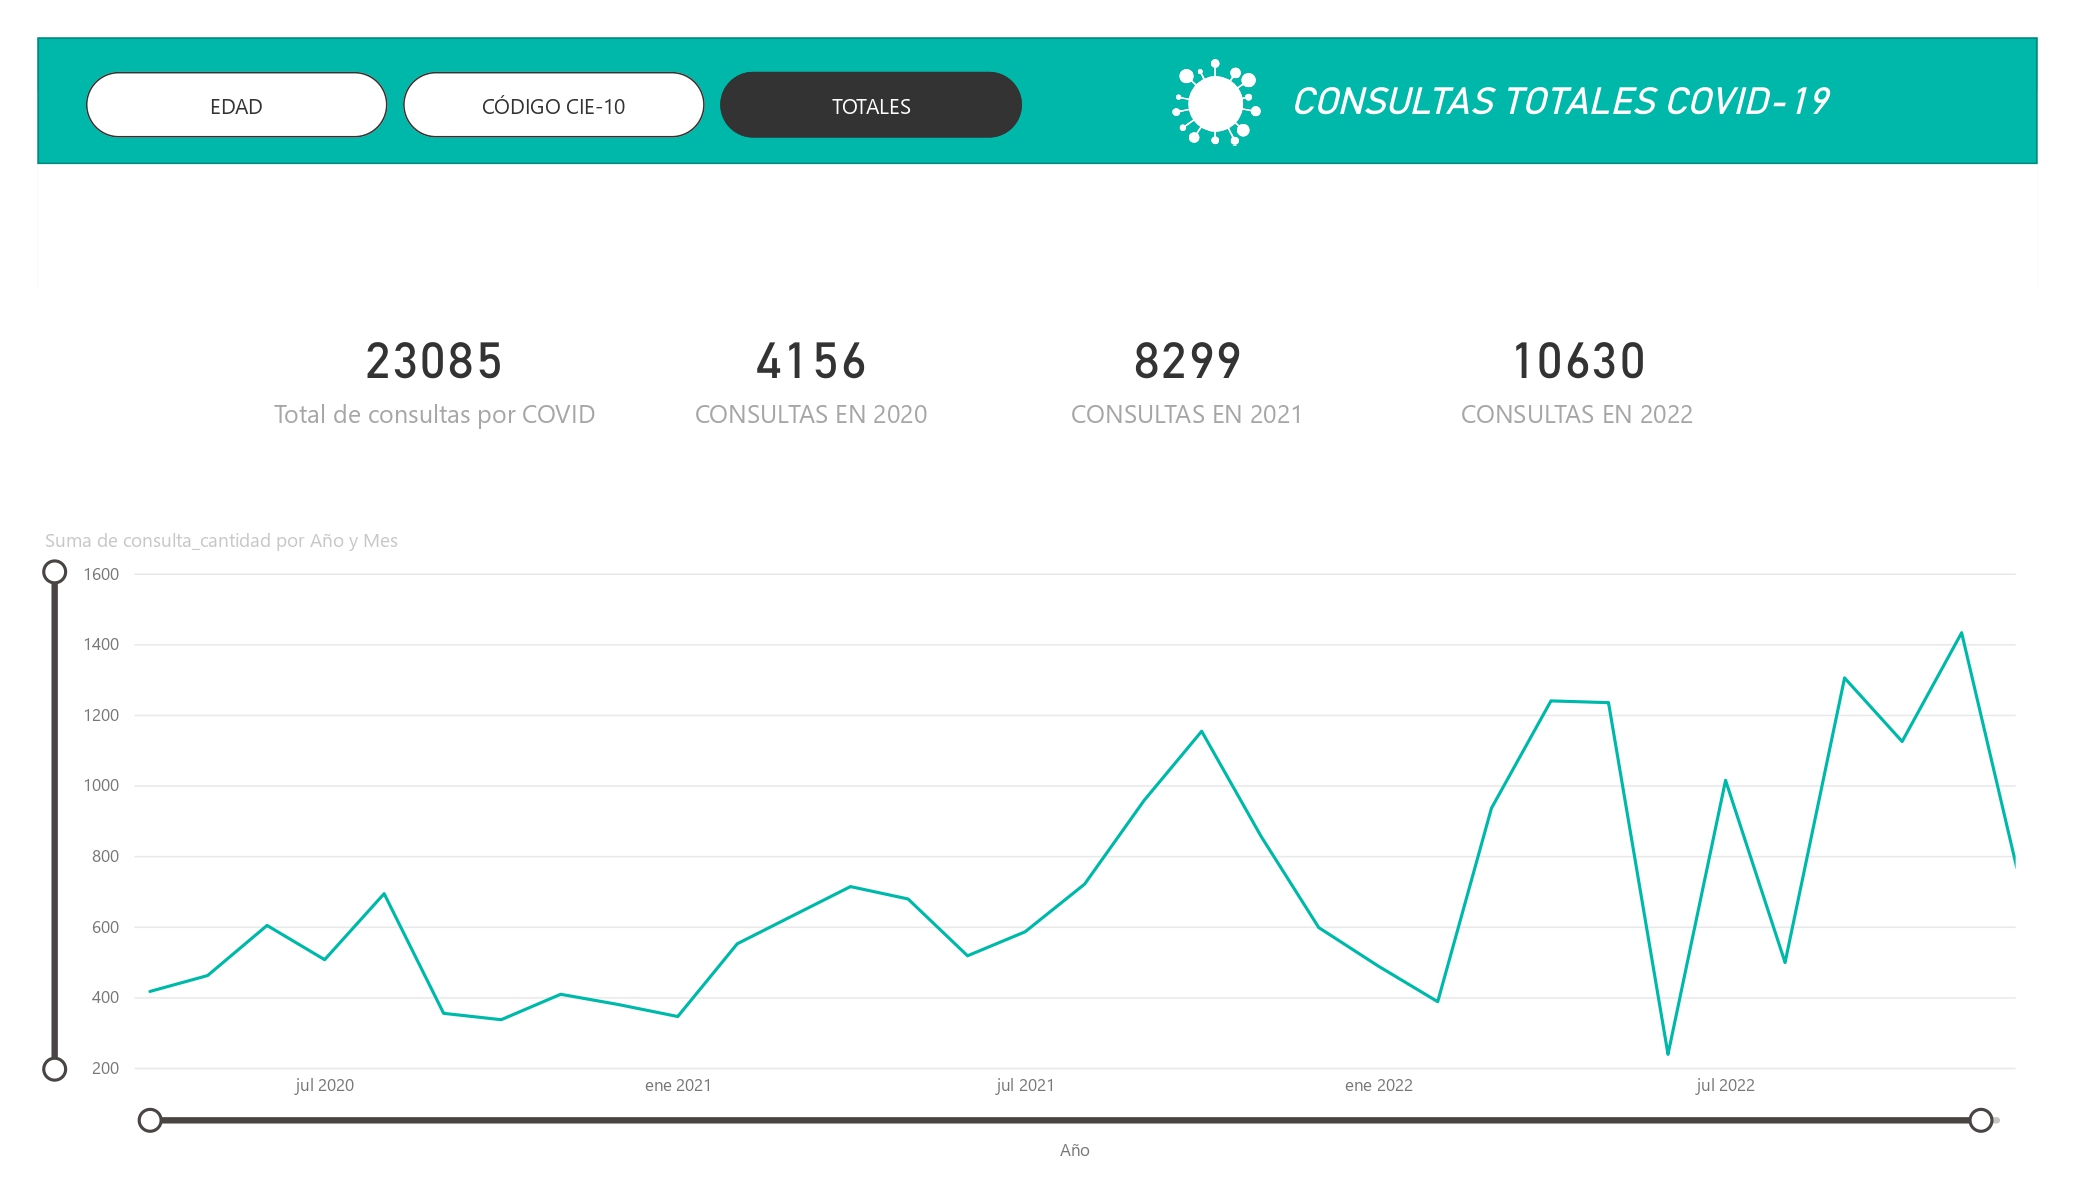

What the dashboard file says about the page in this screenshot:
{"tool":"powerbi","page":{"name":"TOTALES","canvas":[1280,720],"ordinal":2},"visuals":[{"type":"shape","box":[0,0,1280,80.9],"z":0},{"type":"textbox","box":[797.2,22,482.8,47.2],"z":1000},{"type":"pageNavigator","box":[30.8,21.8,599.6,42.4],"z":2000},{"type":"lineChart","fields":{"Category":["df.fecha.Variación.Jerarquía de fechas.Año","df.fecha.Variación.Jerarquía de fechas.Mes"],"Y":["Sum(df.consulta_cantidad)"]},"box":[0,313,1280,407],"z":3000},{"type":"card","fields":{"Values":["df.Total acumulado de consulta_cantidad en fecha"]},"box":[106.9,128.9,316.1,151],"z":4000},{"type":"image","box":[703.5,8.9,102.9,64.8],"z":5000},{"type":"card","fields":{"Values":["CountNonNull(df.fecha.Variación.Jerarquía de fechas.Año)"]},"box":[377.4,128.9,306.6,151],"z":6000},{"type":"card","fields":{"Values":["Min(df.fecha.Variación.Jerarquía de fechas.Mes)"]},"box":[674.6,128.9,248.5,151],"z":7000},{"type":"card","fields":{"Values":["CountNonNull(df.fecha.Variación.Jerarquía de fechas.Día)"]},"box":[923,128.9,232.7,151],"z":8000}]}

Visuals, with their boxes in screenshot pixels (x1, y1, x2, y2):
shape: <region>38, 38, 2038, 164</region>
textbox: <region>1283, 72, 2038, 146</region>
pageNavigator: <region>86, 72, 1022, 138</region>
lineChart - df.fecha.Variación.Jerarquía de fechas.Año x df.fecha.Variación.Jerarquía de fechas.Mes: <region>38, 527, 2038, 1162</region>
card - df.Total acumulado de consulta_cantidad en fecha: <region>205, 239, 698, 475</region>
image: <region>1137, 51, 1298, 153</region>
card - CountNonNull(df.fecha.Variación.Jerarquía de fechas.Año): <region>627, 239, 1106, 475</region>
card - Min(df.fecha.Variación.Jerarquía de fechas.Mes): <region>1092, 239, 1480, 475</region>
card - CountNonNull(df.fecha.Variación.Jerarquía de fechas.Día): <region>1480, 239, 1843, 475</region>
